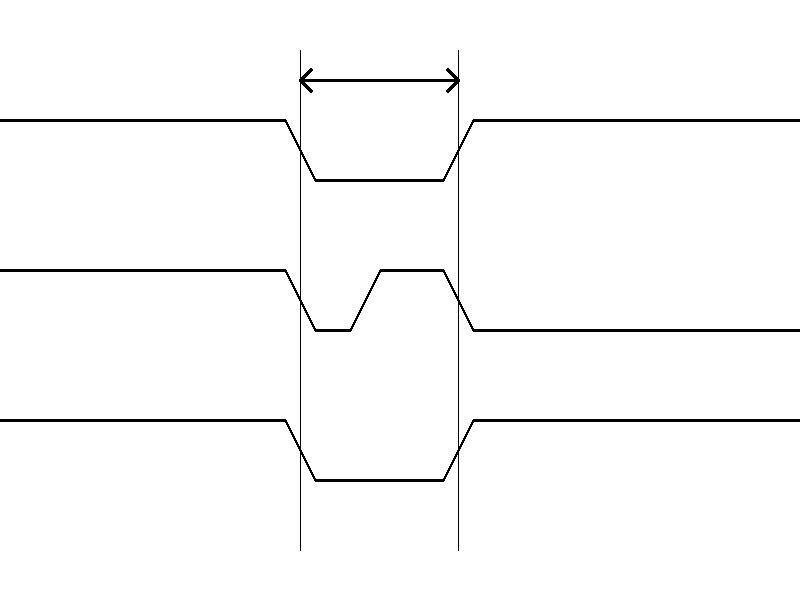double_arrow: (300, 65, 458, 95)
